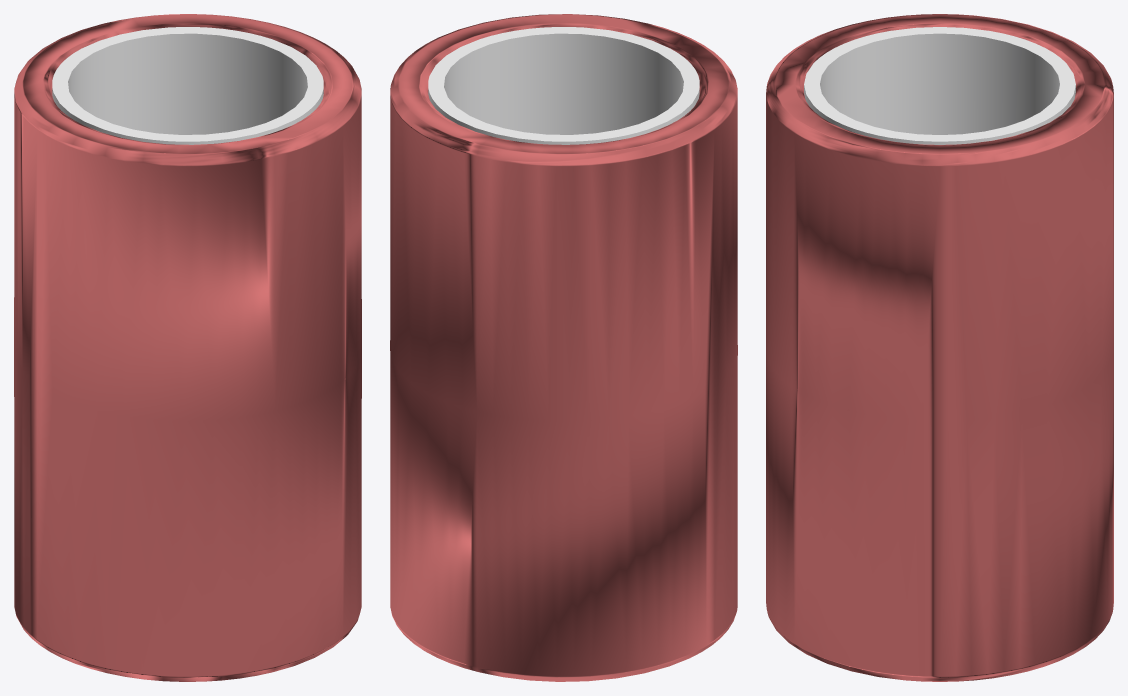
The picture shows the model from 3 angles, left to right: view 1: azimuth 30°, elevation 25°; view 2: azimuth 150°, elevation 25°; view 3: azimuth 270°, elevation 25°; orthographic projection.
Parts seen in each view (by area): view 1: Mid_cyl_S_out, Mid_cyl_S_in; view 2: Mid_cyl_S_out, Mid_cyl_S_in; view 3: Mid_cyl_S_out, Mid_cyl_S_in.
Boxes of the visible parts, bbox=[...] form: Mid_cyl_S_out: bbox=[14, 14, 361, 681]; Mid_cyl_S_in: bbox=[52, 27, 323, 144]; Mid_cyl_S_out: bbox=[390, 14, 737, 681]; Mid_cyl_S_in: bbox=[428, 27, 699, 144]; Mid_cyl_S_out: bbox=[766, 14, 1113, 681]; Mid_cyl_S_in: bbox=[804, 27, 1075, 144].
Size of the model in its own units: 55 by 92 by 55.
